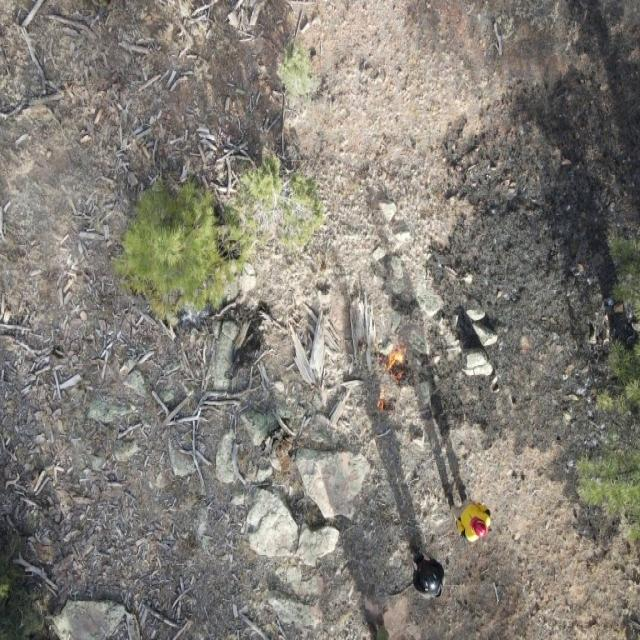fire: (374, 341, 411, 388), (374, 397, 394, 417)
